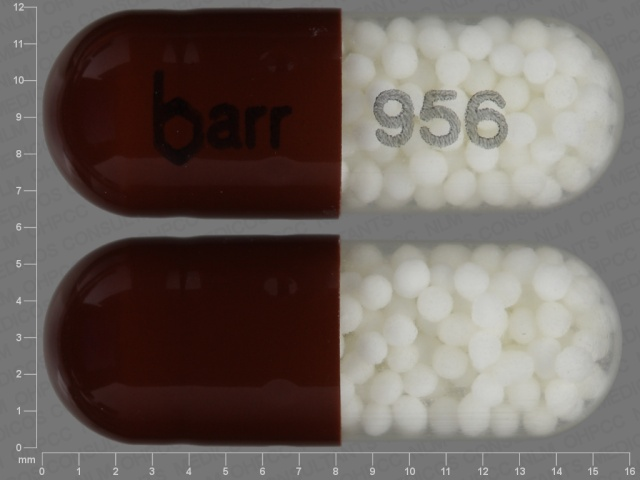capsule: (39, 234, 628, 448), (41, 11, 627, 219)
